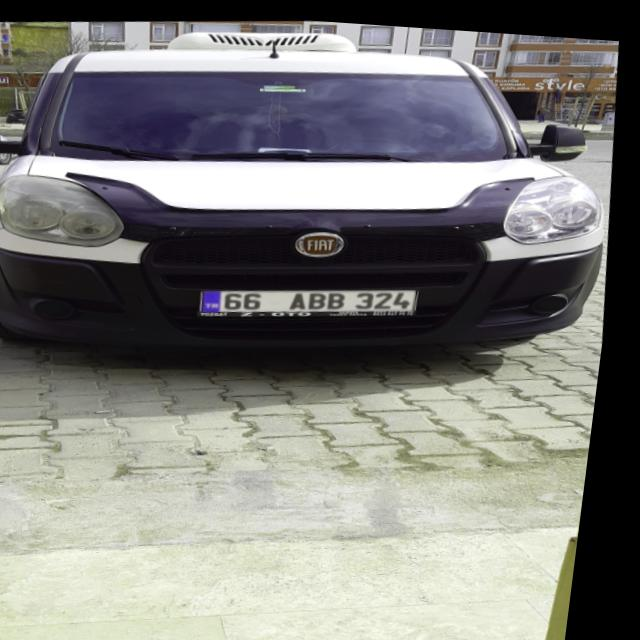plate: (207, 272, 424, 320)
